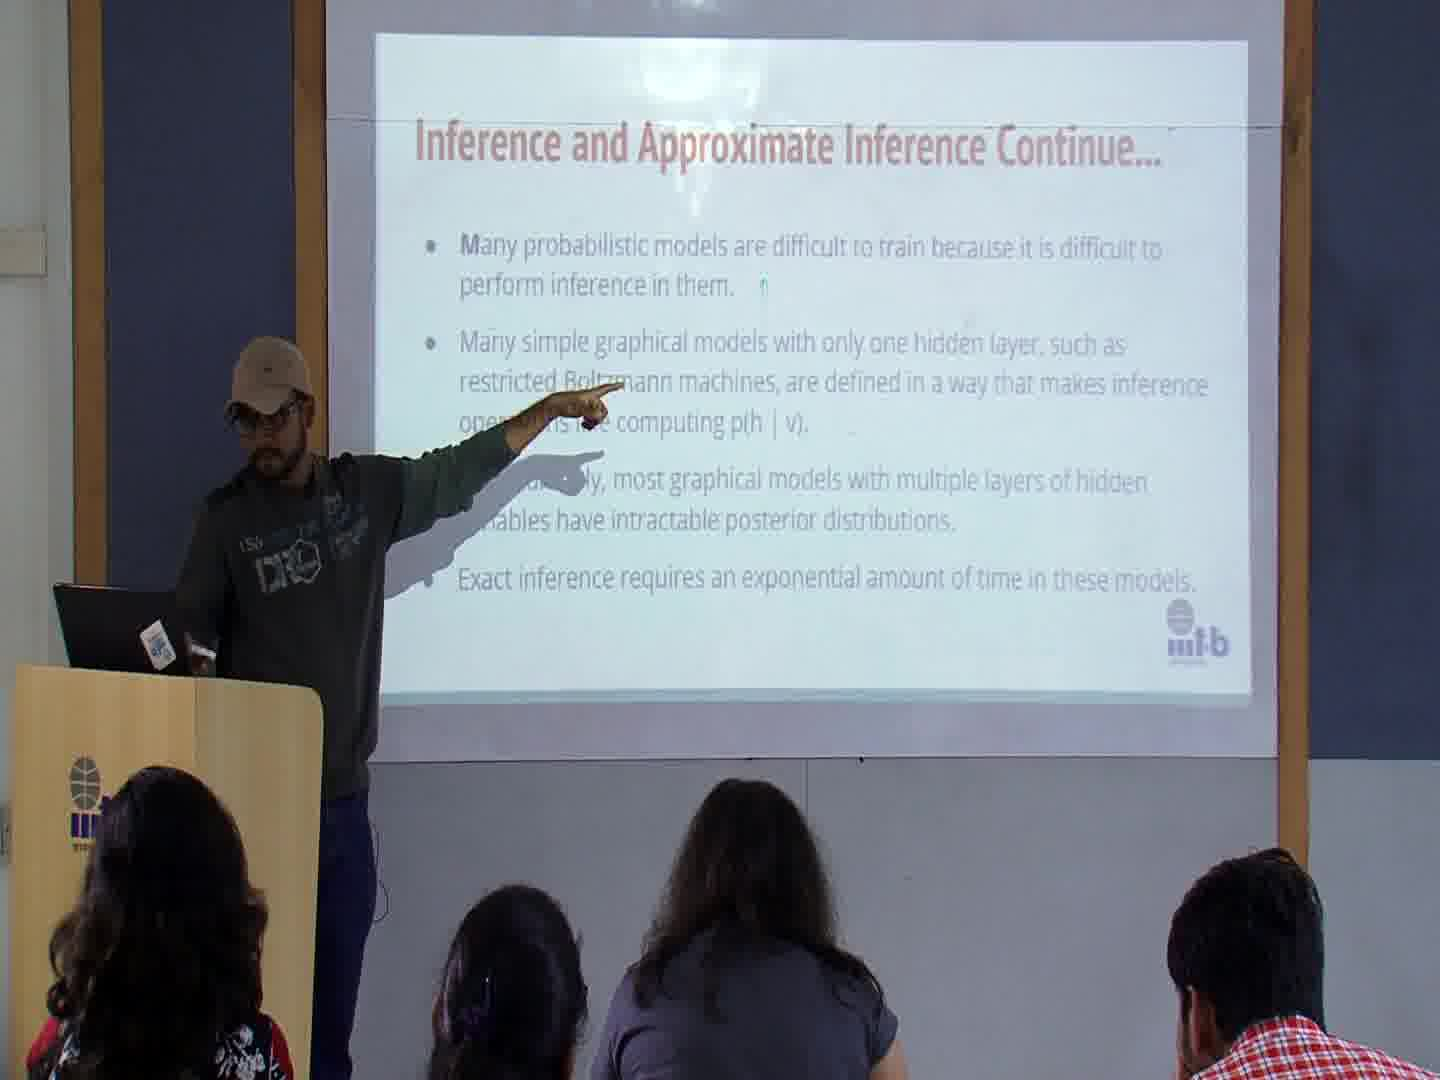slide: (373, 34, 1250, 706)
